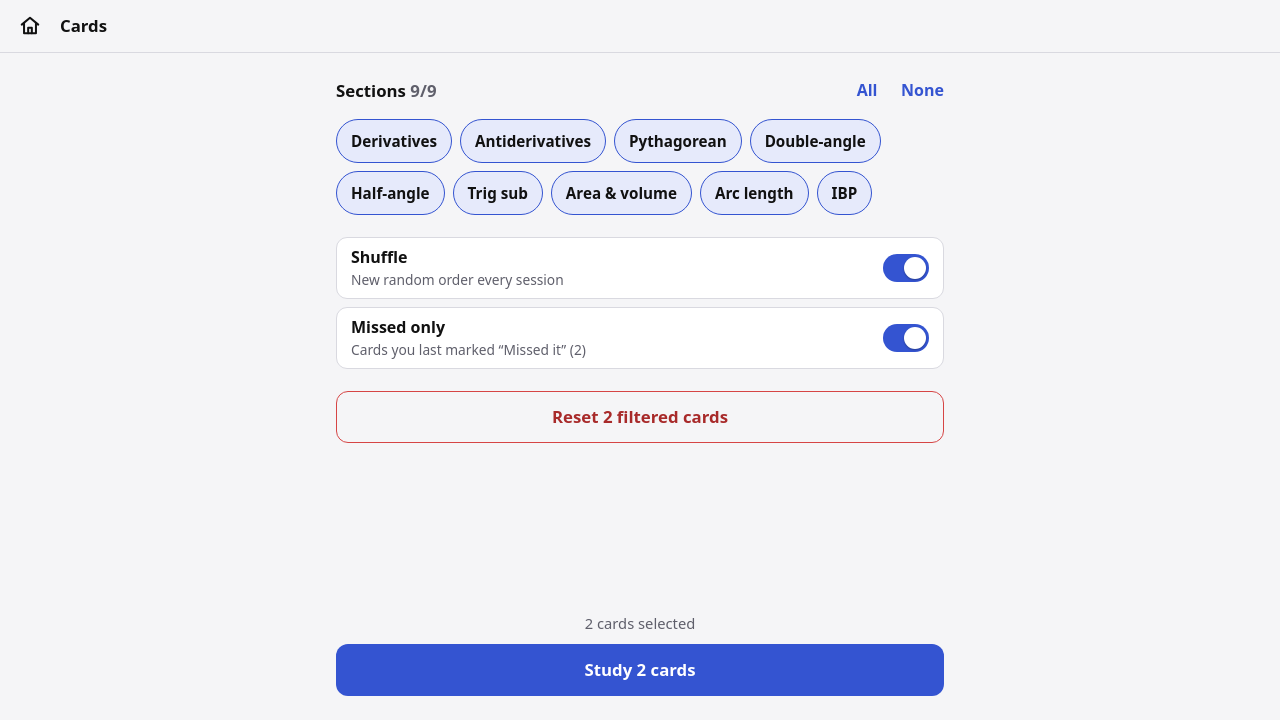
Test case: reset › with missed-only on resets only the missed cards
Click the button "Reset 2 filtered cards". click: (640, 417)
box: [336, 391, 944, 443]
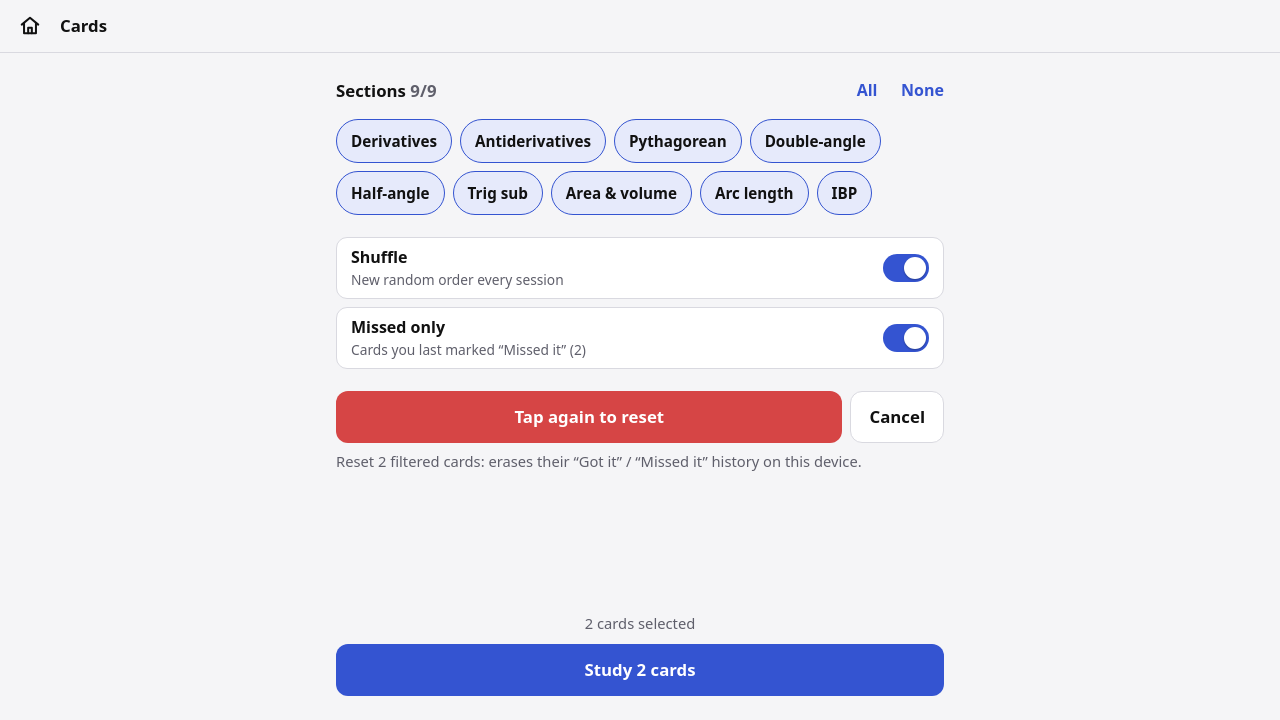
Click the button "Tap again to reset". click: (589, 417)
box: [336, 391, 842, 443]
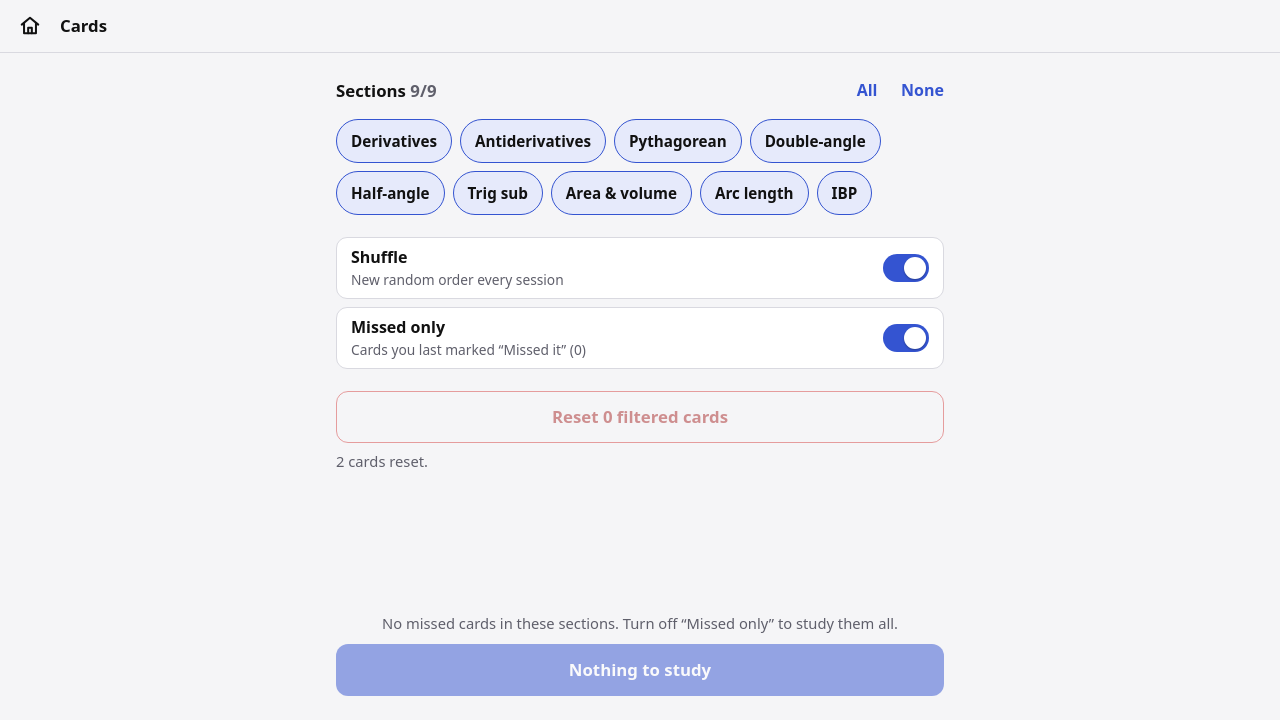
Result: the button "Reset 0 filtered cards" is disabled at [336, 391, 944, 443]
